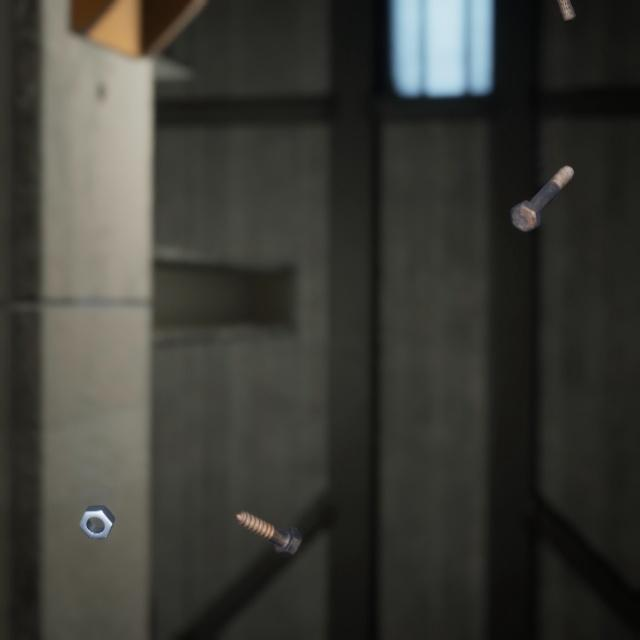bolt: (505, 147, 578, 222), (231, 483, 305, 538), (552, 0, 580, 22)
nut: (74, 478, 120, 521)
